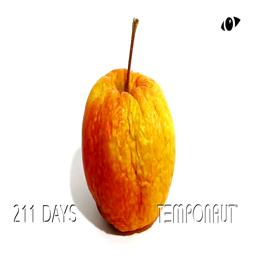Apple Overripe: (83, 18, 174, 231)
